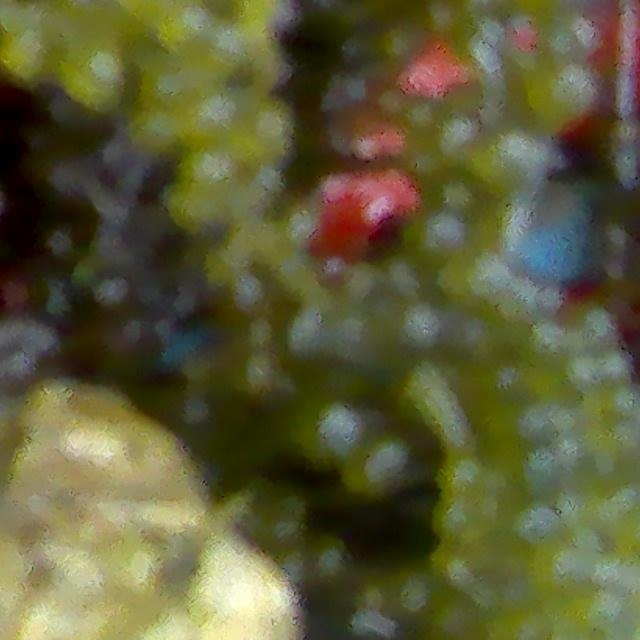SeaGrape: (59, 34, 120, 108), (0, 25, 47, 84)
